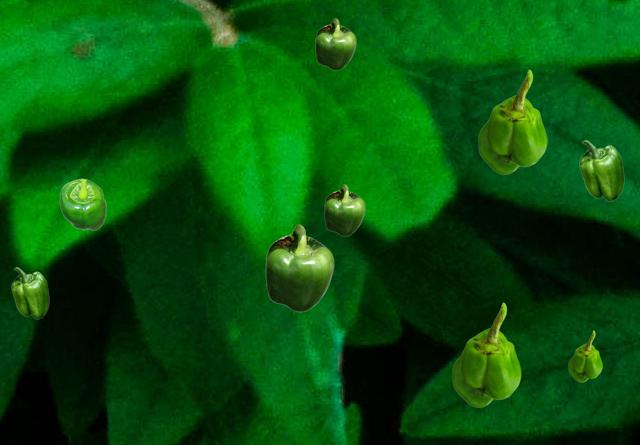bell_pepper: (478, 69, 546, 173), (452, 302, 520, 406), (265, 224, 333, 311), (579, 140, 623, 200), (59, 178, 105, 229), (315, 18, 355, 69), (324, 184, 364, 235), (11, 267, 48, 318), (568, 330, 601, 381)
